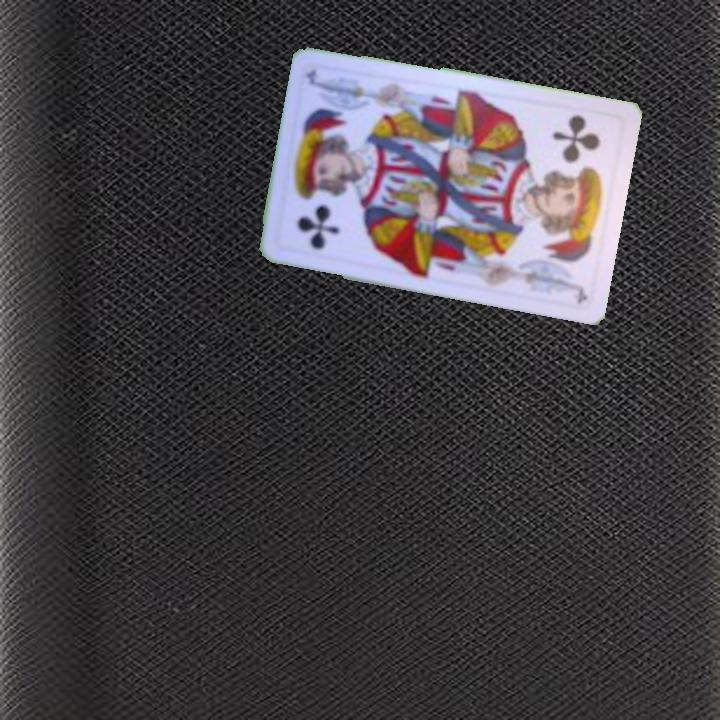c_j.png: (523, 102, 625, 215), (274, 151, 375, 264)
